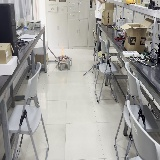fire: (61, 43, 65, 60)
